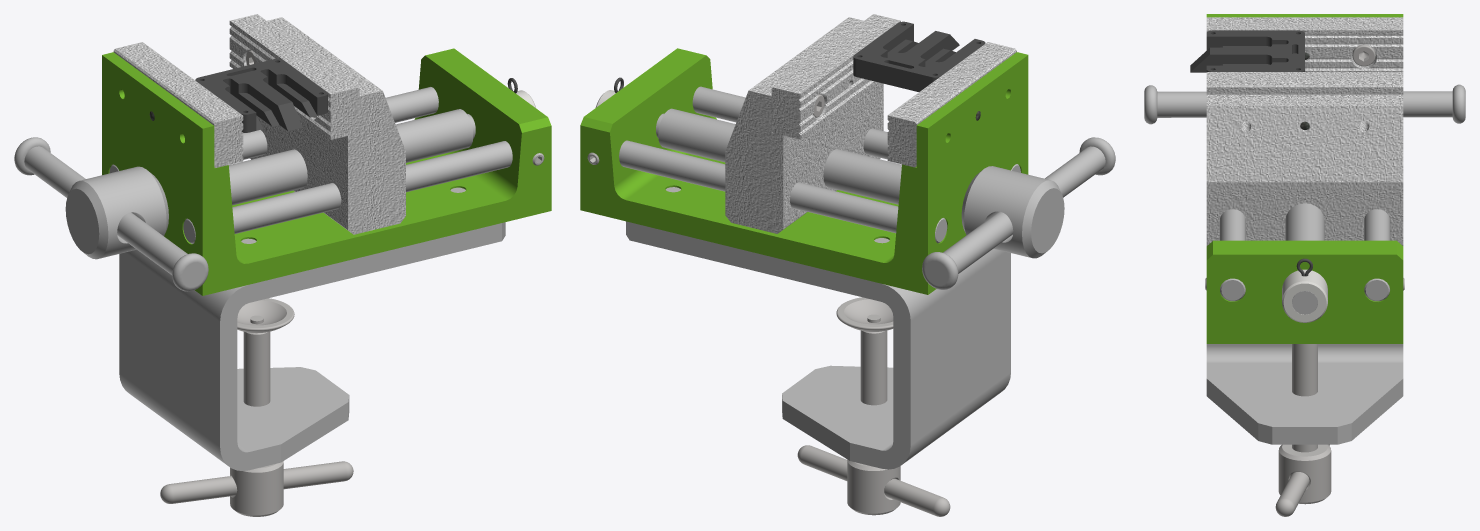
Rendered from asset.glb.
3 views of the same model, side by side, from view 1: azimuth 30°, elevation 25°; view 2: azimuth 150°, elevation 25°; view 3: azimuth 270°, elevation 25° (orthographic). The views are drawn at different scales.
Visible parts, largest first — view 1: Solid1 (×5), Těleso1 (×6), Těleso3, Těleso2; view 2: Solid1 (×5), Těleso1 (×6), Těleso3, Těleso2; view 3: Těleso1 (×6), Solid1 (×7), Těleso3.
Part boxes in pixels (x1=…): Solid1 (×5): x1=14, y1=48, x2=551, y2=470; Těleso1 (×6): x1=65, y1=14, x2=475, y2=516; Těleso3: x1=160, y1=461, x2=353, y2=503; Těleso2: x1=237, y1=298, x2=294, y2=333; Solid1 (×5): x1=580, y1=48, x2=1115, y2=469; Těleso1 (×6): x1=656, y1=14, x2=1064, y2=515; Těleso3: x1=797, y1=445, x2=950, y2=516; Těleso2: x1=836, y1=297, x2=893, y2=331; Těleso1 (×6): x1=1190, y1=17, x2=1403, y2=504; Solid1 (×7): x1=1144, y1=14, x2=1465, y2=444; Těleso3: x1=1275, y1=444, x2=1329, y2=516.
Bounding box in the file's own units: 0.153 × 0.1458 × 0.098.
9 materials, 2 textured.
